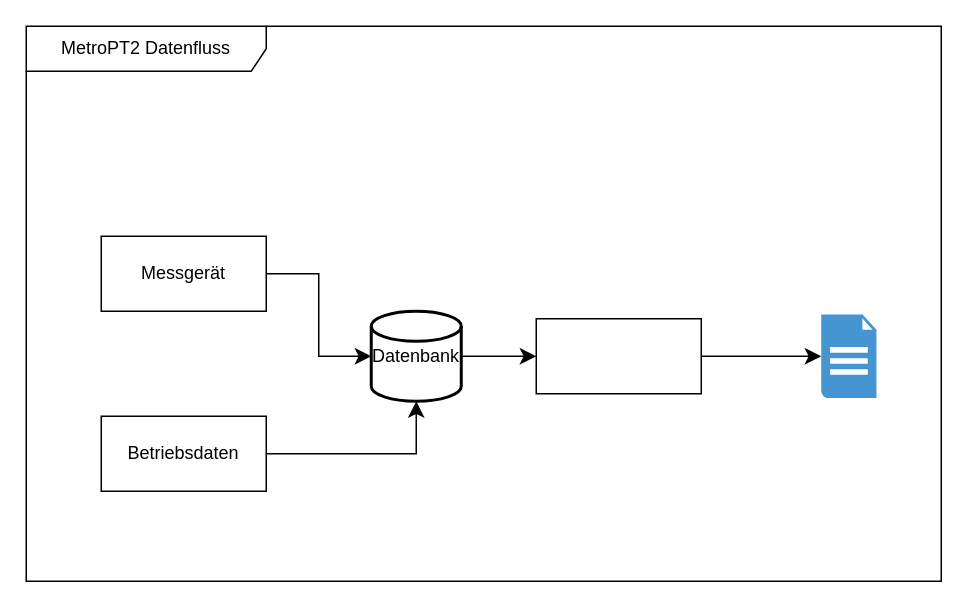
The diagram is 968 pixels wide and 608 high, and some of its shapes have lost their labels. Each missing label, with the centre of its shape:
KI-System: pixel 618 355
Vorhersagen: pixel 848 355
